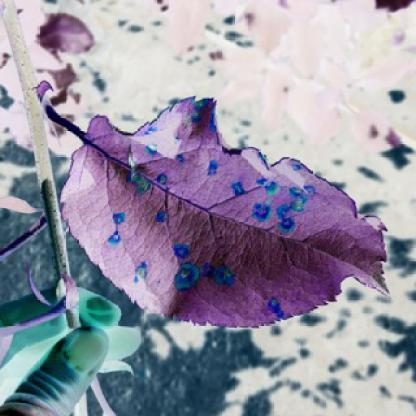Apple rust leaf: (56, 84, 402, 340)
